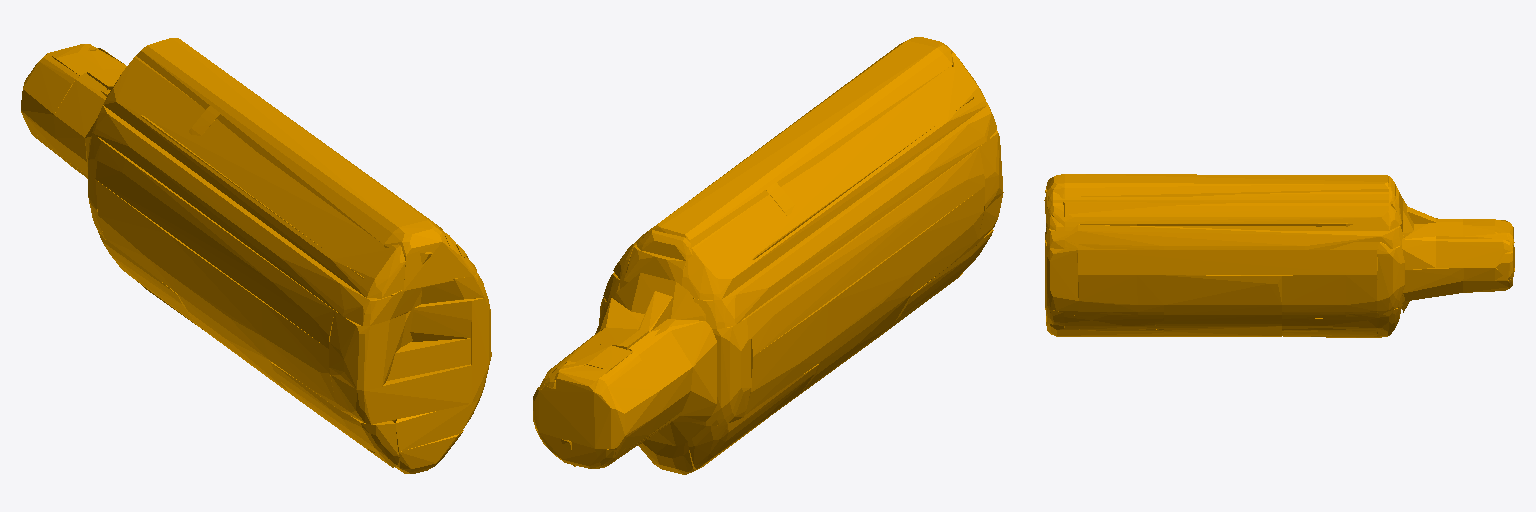
robot.urdf — bottle-inox:
<?xml version="1.0" ?>
<robot name="bottle-inox">
  <link name="baseLink">
    <contact>
      <lateral_friction value="1.0"/>
      <inertia_scaling value="3.0"/>
    </contact>
    <inertial>
      <origin rpy="0 0 0" xyz="0.000 0.000 0.000"/>
       <mass value=".1"/>
       <inertia ixx="1" ixy="0.0" ixz="0.0" iyy="1" iyz="0.0" izz="1"/>
    </inertial>
    <visual>
      <origin rpy="0 0 0" xyz="0 0 0"/>
      <geometry>
        <mesh filename="bottle/bottle-inox_cleaner.obj" scale="1.0 1.0 1.0"/>
      </geometry>
    </visual>
    <collision>
      <origin rpy="0 0 0" xyz="0 0 0"/>
      <geometry>
        <mesh filename="../collision/bottle/bottle-inox_cleaner.obj" scale="1.0 1.0 1.0"/>
      </geometry>
    </collision>
  </link>
</robot>
        

--- Facts derived from the render (not from the file) ---
Views: 3 orthographic renders of the robot side by side, from view 1: azimuth 30°, elevation 25°; view 2: azimuth 150°, elevation 25°; view 3: azimuth 270°, elevation 25°.
Model bottle-inox with 1 links and 0 joints (none), rooted at baseLink, posed all joints at 0.
Links seen in each view (by area): view 1: baseLink; view 2: baseLink; view 3: baseLink.
Link boxes in pixels (x1,y1,x2,y2): baseLink: [21, 38, 491, 473]; baseLink: [533, 37, 1003, 474]; baseLink: [1044, 174, 1514, 337].
Size in the robot's own frame: 0.0355 by 0.151 by 0.0559 metres.
1 mesh visuals loaded from 1 distinct referenced files (1 OBJ).